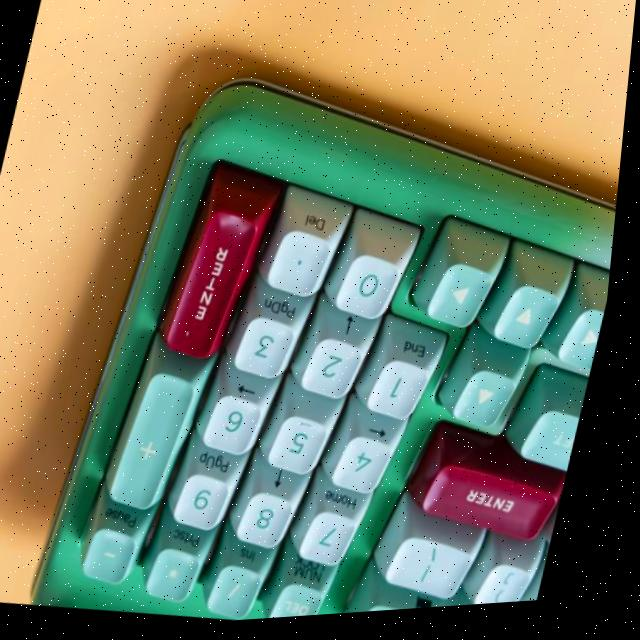klavye: (36, 76, 621, 624)
